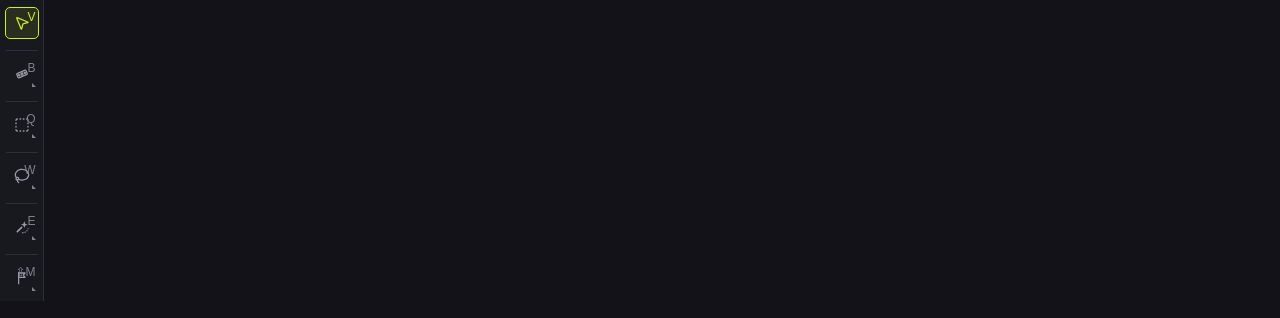
Test: ToolRail — flyout (Photoshop convention: hold + right-click, ARIA, dismiss) › dismisses on outside click
Right-click the button with test id "tool-rail-group-key".
right_click(22, 227)  # box [6,212,38,242]
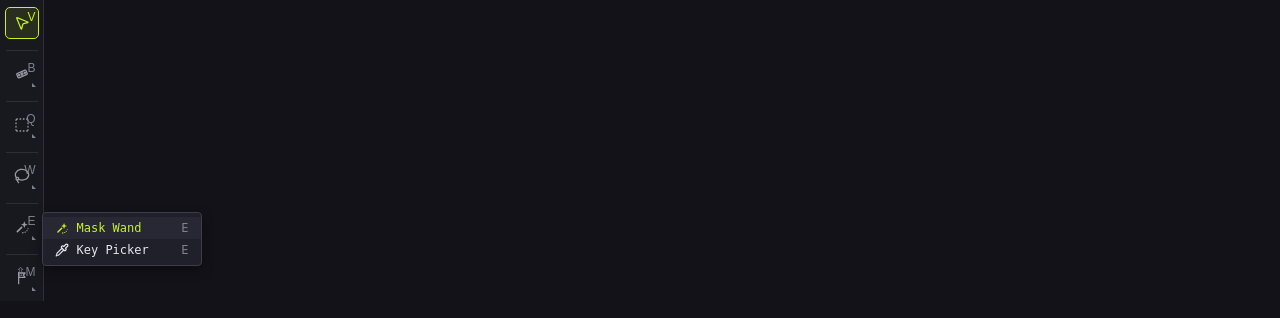
Check: the menu with test id "tool-rail-flyout" is shown, box [42,212,202,266]
Press the mouse on the element showing "V B Q W E Mask Wand E Key Picker E ⇧M" at point(640, 150), box [0,0,1279,301]
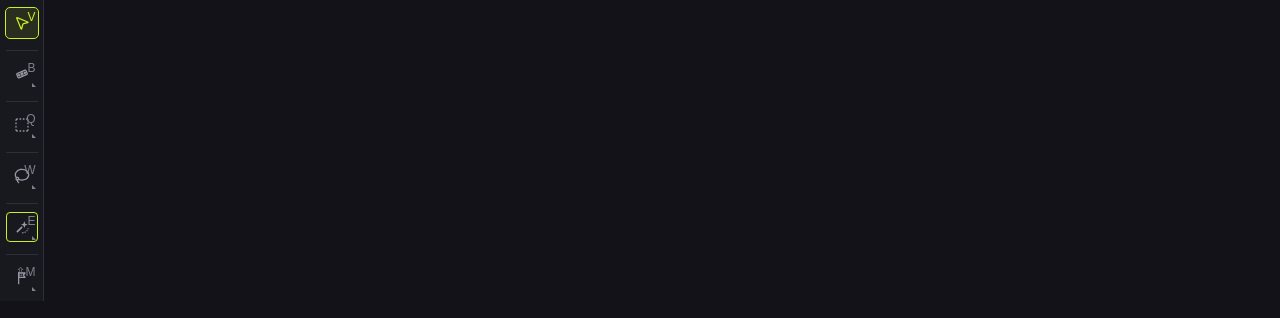
Check: the menu with test id "tool-rail-flyout" is gone
